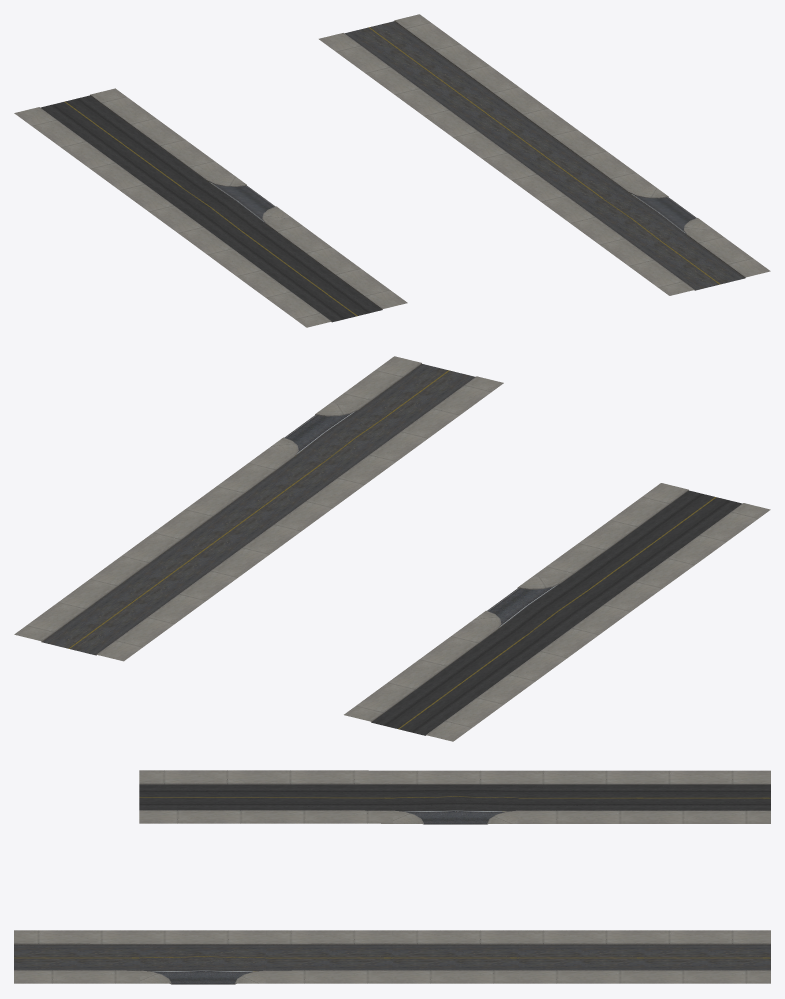
The model's file is vegassroad100.obj.
3 views of the same model, one above another, from view 1: azimuth 30°, elevation 25°; view 2: azimuth 150°, elevation 25°; view 3: azimuth 270°, elevation 25° (orthographic). The views are drawn at different scales.
Parts seen in each view (by area): view 1: VegasSroad100; view 2: VegasSroad100; view 3: VegasSroad100.
Boxes of the visible parts, x1,y1,x2,y2 form: VegasSroad100: [14, 14, 770, 327]; VegasSroad100: [14, 356, 770, 741]; VegasSroad100: [14, 770, 770, 984].
Bounding box in the file's own units: 80.08 × 0.2216 × 120.
7 materials, 7 textured.
